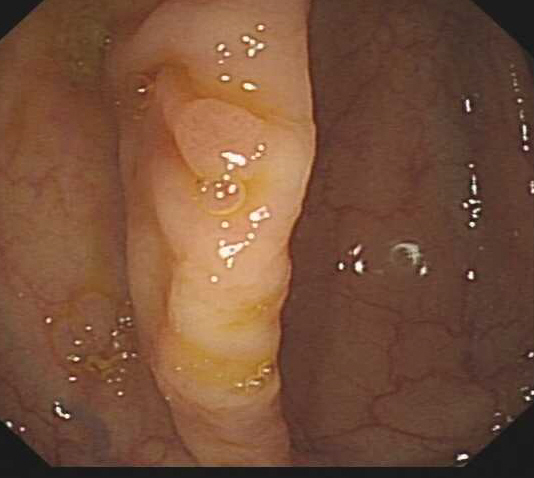adenoma: (162, 96, 278, 185)
